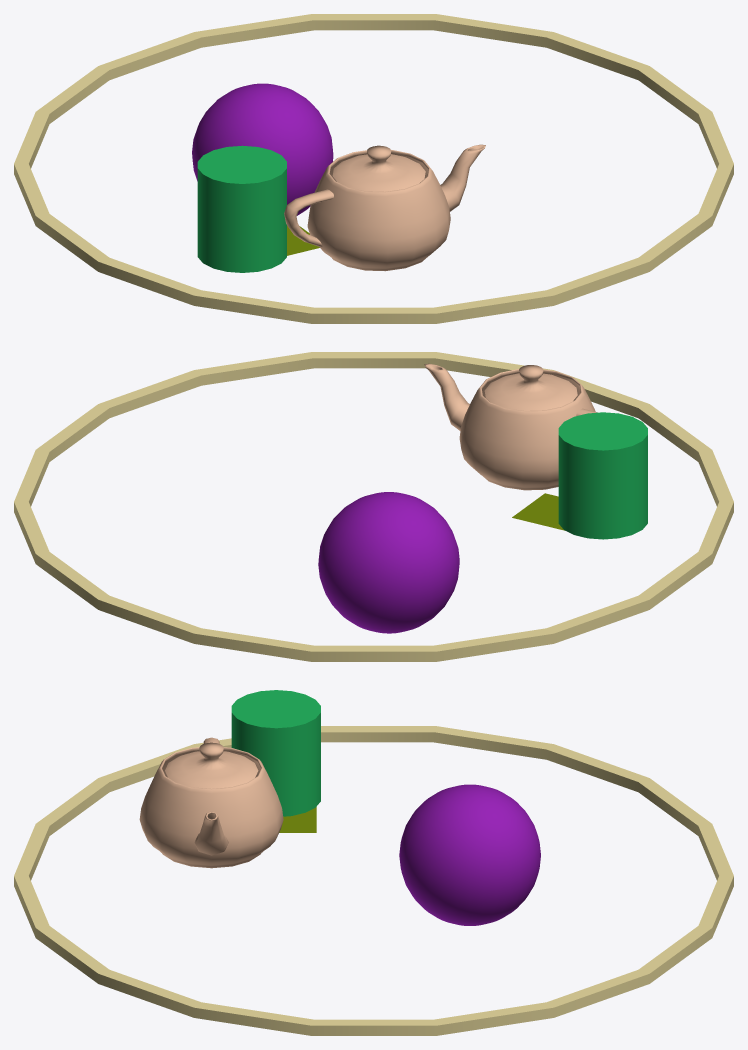
The picture shows the model from 3 angles, top to bottom: view 1: azimuth 30°, elevation 25°; view 2: azimuth 150°, elevation 25°; view 3: azimuth 270°, elevation 25°; orthographic projection.
Visible parts, largest first — view 1: Tube001, Teapot001, Cylinder001, Sphere001; view 2: Tube001, Sphere001, Teapot001, Cylinder001, Plane001; view 3: Tube001, Sphere001, Teapot001, Cylinder001, Plane001.
Boxes of the visible parts, x1,y1,x2,y2 form: Tube001: [14, 14, 733, 323]; Teapot001: [284, 144, 485, 271]; Cylinder001: [197, 145, 286, 272]; Sphere001: [192, 83, 333, 215]; Tube001: [14, 352, 733, 661]; Sphere001: [318, 492, 459, 633]; Teapot001: [424, 363, 597, 490]; Cylinder001: [558, 412, 647, 539]; Plane001: [512, 493, 564, 530]; Tube001: [14, 726, 733, 1035]; Sphere001: [399, 784, 540, 925]; Teapot001: [139, 737, 283, 868]; Cylinder001: [231, 690, 320, 816]; Plane001: [279, 807, 316, 832].
Size of the model in its own units: 901 by 234 by 915.
